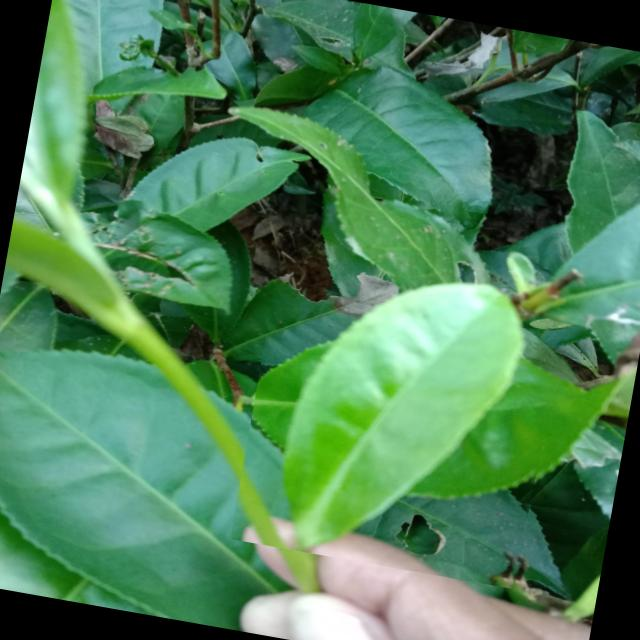Category C 4-7 days: (230, 215, 580, 590)
